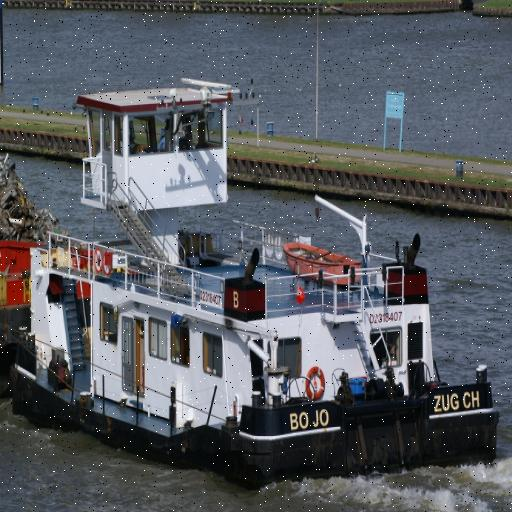tugboat: (5, 74, 506, 500)
